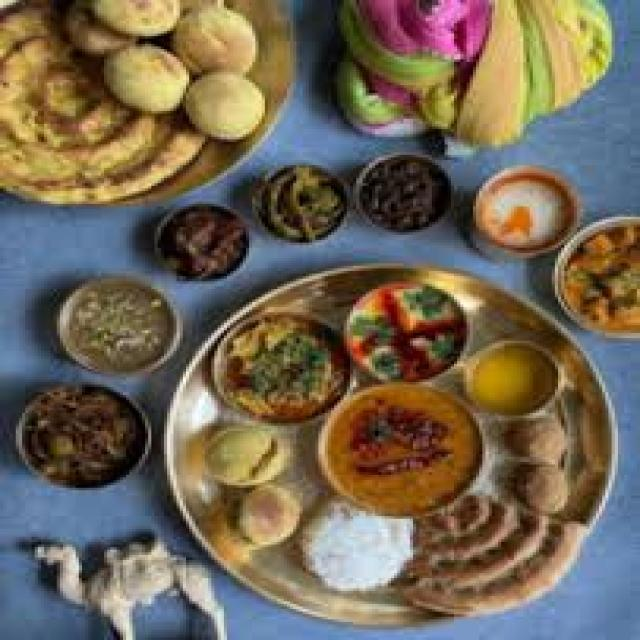dal: (311, 382, 502, 525), (458, 337, 569, 416)
raita: (460, 164, 583, 258)
rice: (300, 500, 419, 594)
roti: (0, 43, 135, 196)
veg: (213, 327, 355, 413)
veg-fry: (25, 397, 140, 479)
